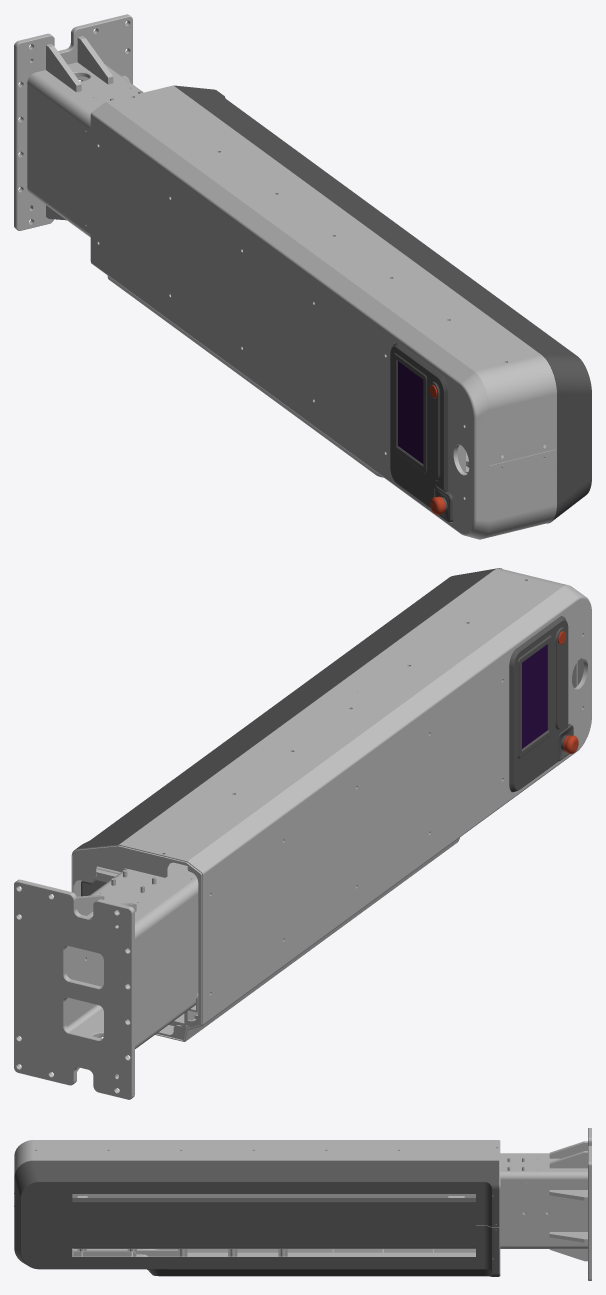
File: column.glb
3 renders of one model, top to bottom at view 1: azimuth 30°, elevation 25°; view 2: azimuth 150°, elevation 25°; view 3: azimuth 270°, elevation 25°, orthographic. The views are drawn at different scales.
Visible parts, largest first — view 1: omni_chassis_torso_mount_link_high, omni_chassis_torso_mount_link_high.001, omni_chassis_torso_mount_link_high.005; view 2: omni_chassis_torso_mount_link_high, omni_chassis_torso_mount_link_high.001, omni_chassis_torso_mount_link_high.005; view 3: omni_chassis_torso_mount_link_high.001, omni_chassis_torso_mount_link_high.
Boxes of the visible parts, x1=… form: omni_chassis_torso_mount_link_high: x1=14, y1=14, x2=556, y2=539; omni_chassis_torso_mount_link_high.001: x1=174, y1=85, x2=591, y2=523; omni_chassis_torso_mount_link_high.005: x1=398, y1=361, x2=423, y2=463; omni_chassis_torso_mount_link_high: x1=14, y1=568, x2=591, y2=1099; omni_chassis_torso_mount_link_high.001: x1=75, y1=568, x2=573, y2=896; omni_chassis_torso_mount_link_high.005: x1=522, y1=644, x2=547, y2=748; omni_chassis_torso_mount_link_high.001: x1=14, y1=1160, x2=499, y2=1276; omni_chassis_torso_mount_link_high: x1=14, y1=1128, x2=591, y2=1280.
Size of the model in its own units: 0.2667 by 0.342 by 1.5.
